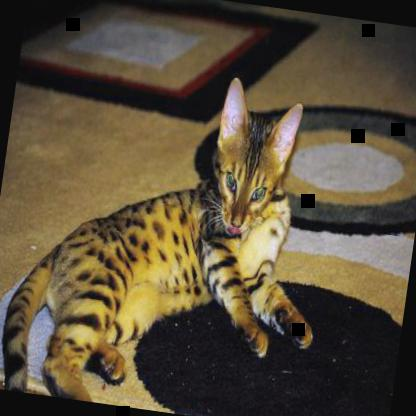cat: (0, 48, 350, 415)
